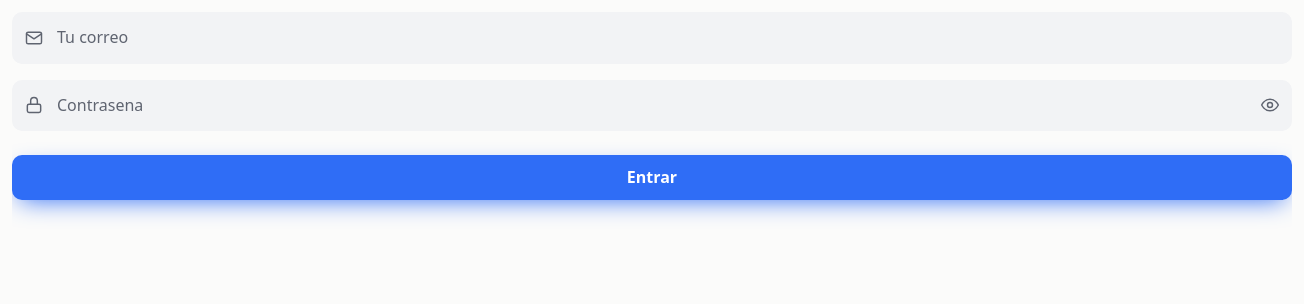
Test: LoginForm › un 429 dice cuanto esperar
Step 1. Type "ana@casa.com" into the field with placeholder "Tu correo" → (652, 38), box [12,12,1292,64]
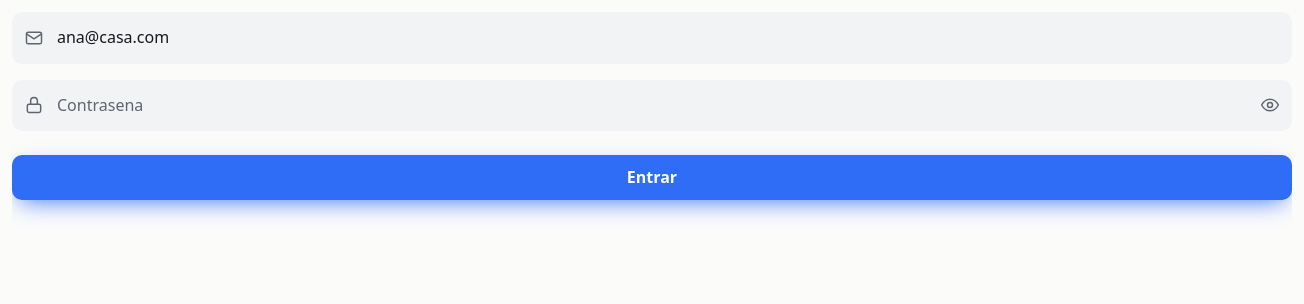
Step 2. Type "una-contrasena-larga" into the password field with placeholder "Contrasena" → (652, 105), box [12,80,1292,131]
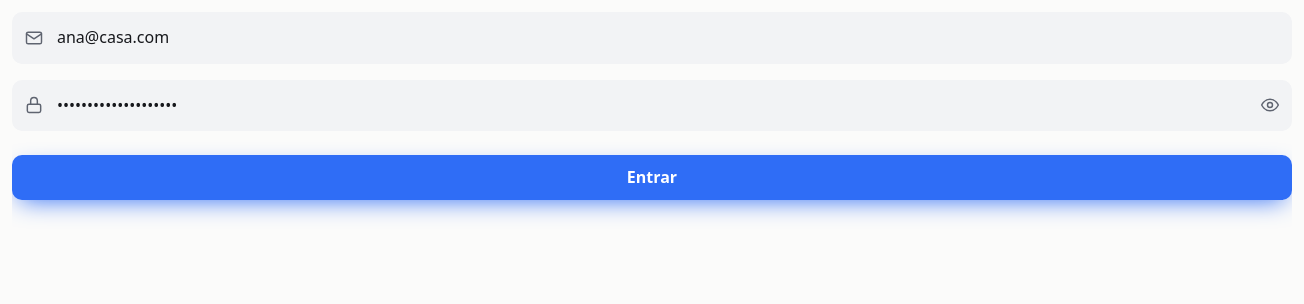
Step 3. Submit the form
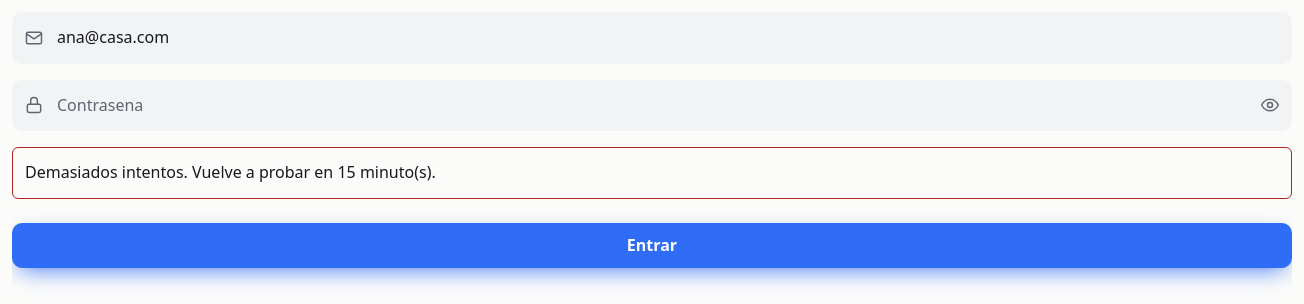
Check: the message with class "fallo" shows "15 minuto(s)", box [25,161,436,183]
